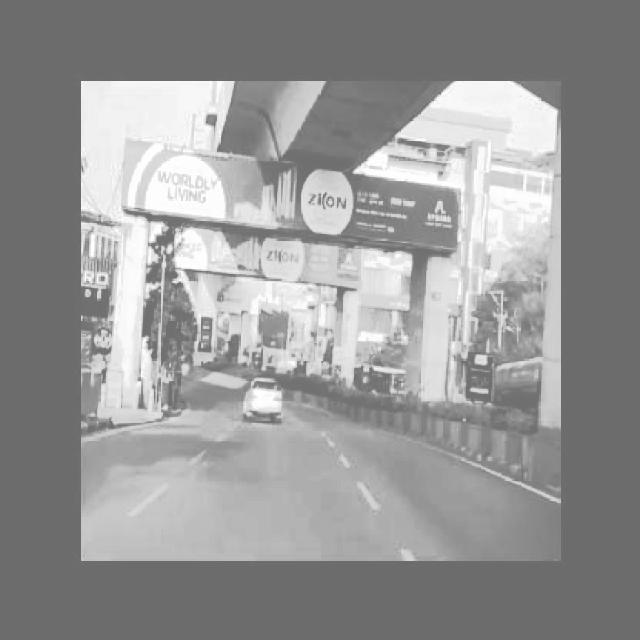Car: (234, 355, 290, 441)
